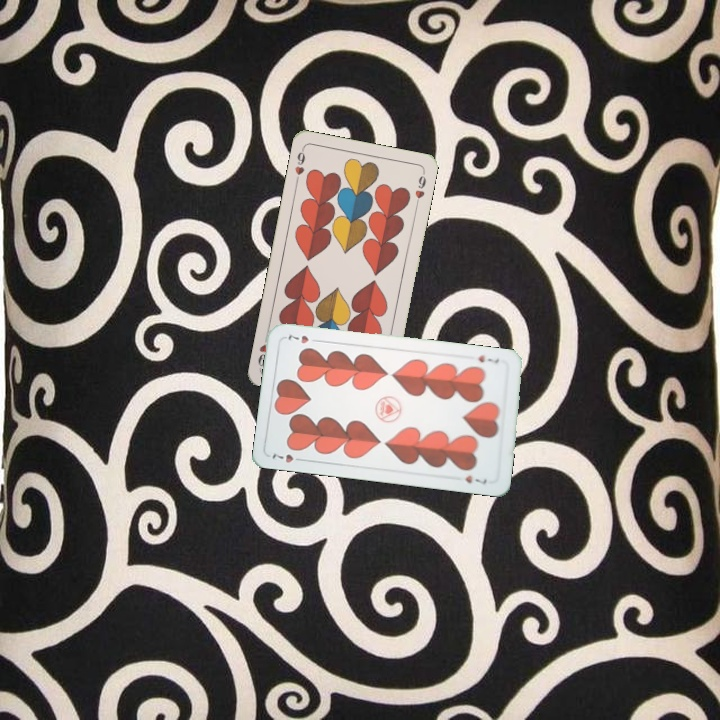H7: (268, 450, 307, 465), (474, 351, 502, 366)
H9: (291, 144, 308, 185)
